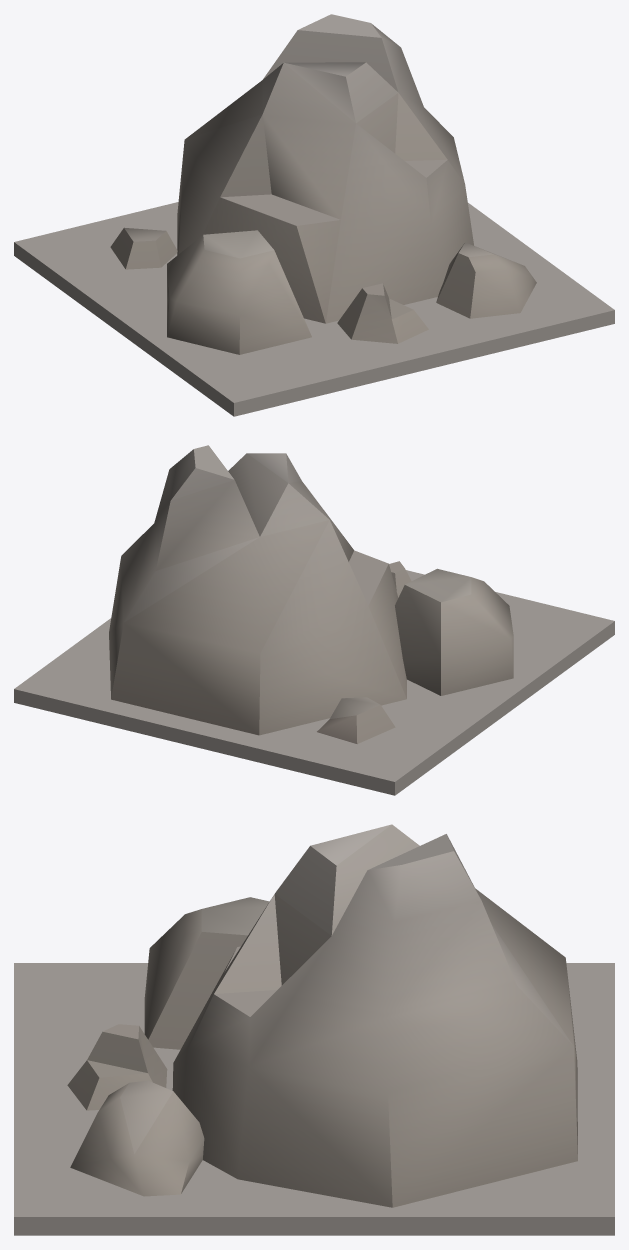
Rendered from rocks.glb.
3 views of the same model, one above another, from view 1: azimuth 30°, elevation 25°; view 2: azimuth 150°, elevation 25°; view 3: azimuth 270°, elevation 25° (orthographic). The views are drawn at different scales.
Parts seen in each view (by area): view 1: Rocks; view 2: Rocks; view 3: Rocks.
Boxes of the visible parts, x1,y1,x2,y2 form: Rocks: (14,14,614,416); Rocks: (14,445,614,795); Rocks: (14,824,614,1235).
Size of the model in its own units: 0.29 by 0.1612 by 0.29.
1 material, 1 textured.
